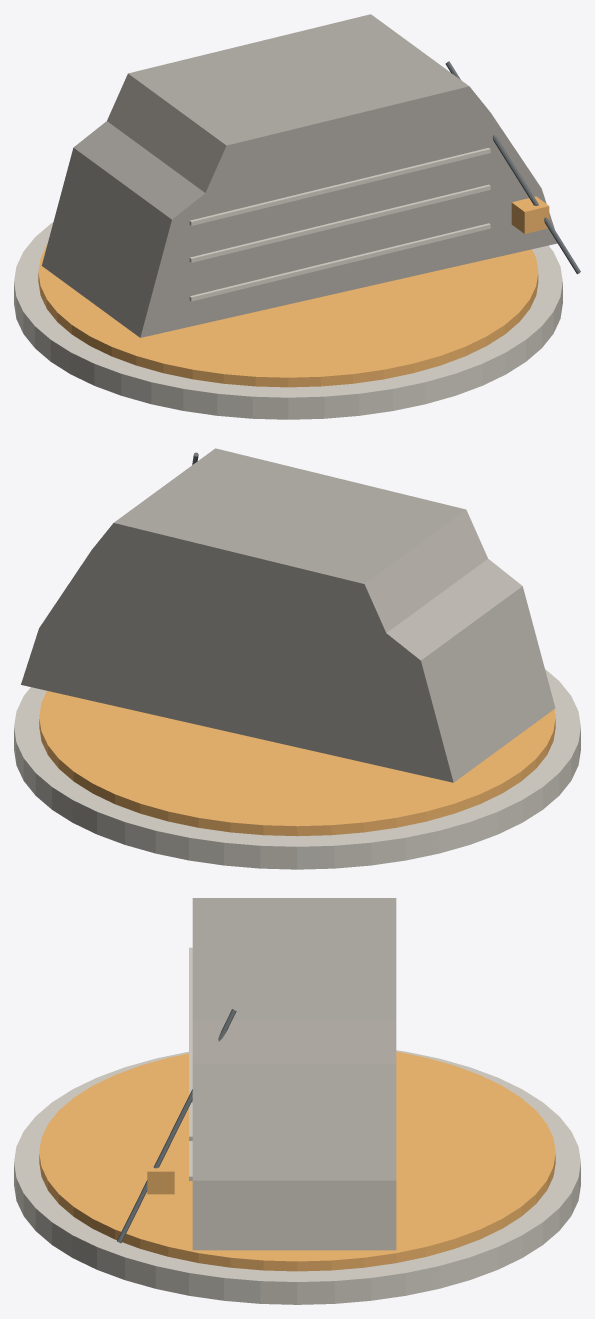
File: table-mountain.glb
The picture shows the model from 3 angles, top to bottom: view 1: azimuth 30°, elevation 25°; view 2: azimuth 150°, elevation 25°; view 3: azimuth 270°, elevation 25°; orthographic projection. The views are drawn at different scales.
Visible parts, largest first — view 1: Cube.003; view 2: Cube.003; view 3: Cube.003.
Part boxes in pixels (x1=…): Cube.003: x1=14, y1=14, x2=580, y2=419; Cube.003: x1=14, y1=448, x2=580, y2=869; Cube.003: x1=14, y1=898, x2=580, y2=1304.
Bounding box in the file's own units: 2.7 × 1.27 × 2.7.
